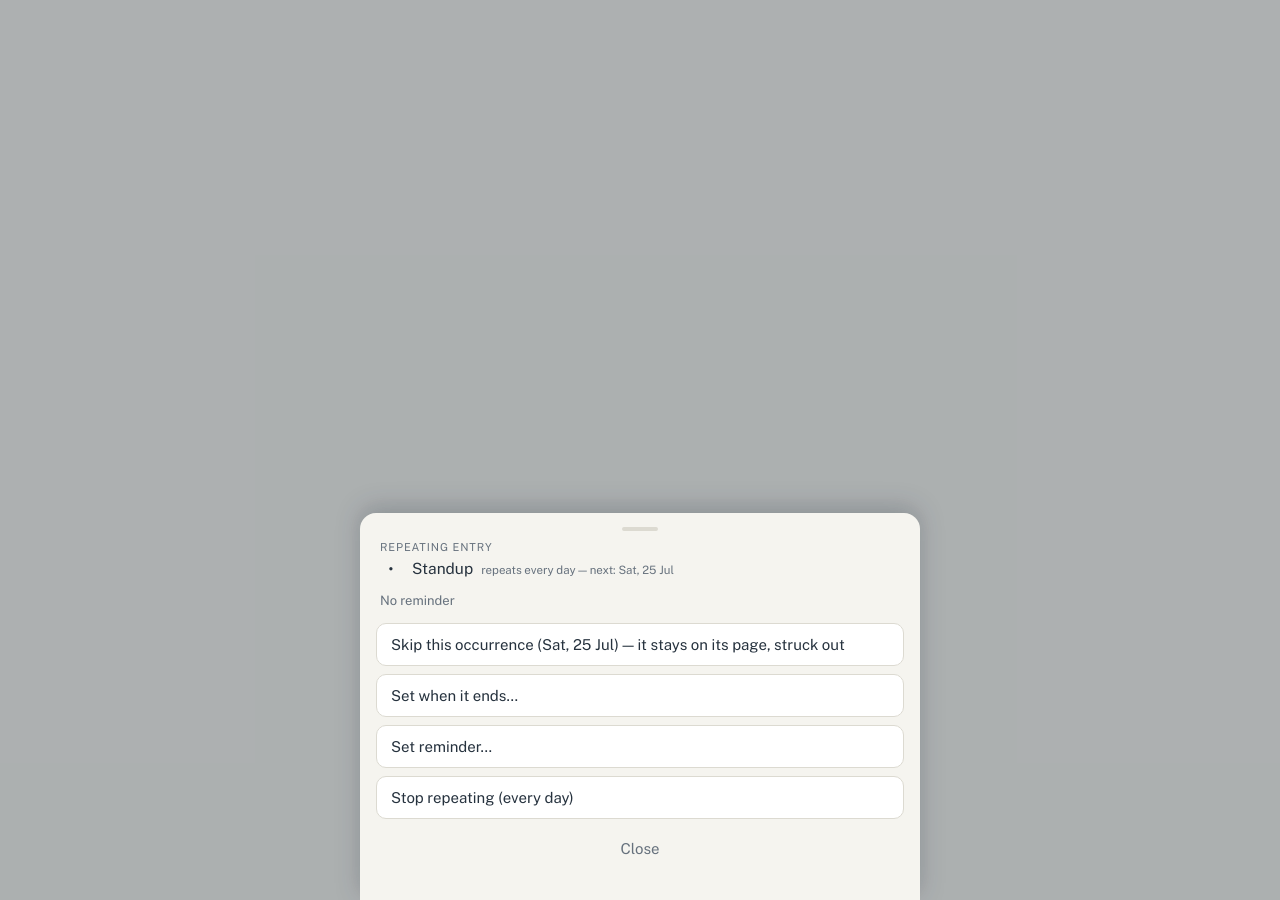
Test: the repeat's reminder › Back leaves the step without writing
This screenshot has width=1280, height=900.
Click the button with test id "rule-reminder-set".
click(442, 746)  # box [376,725,904,768]
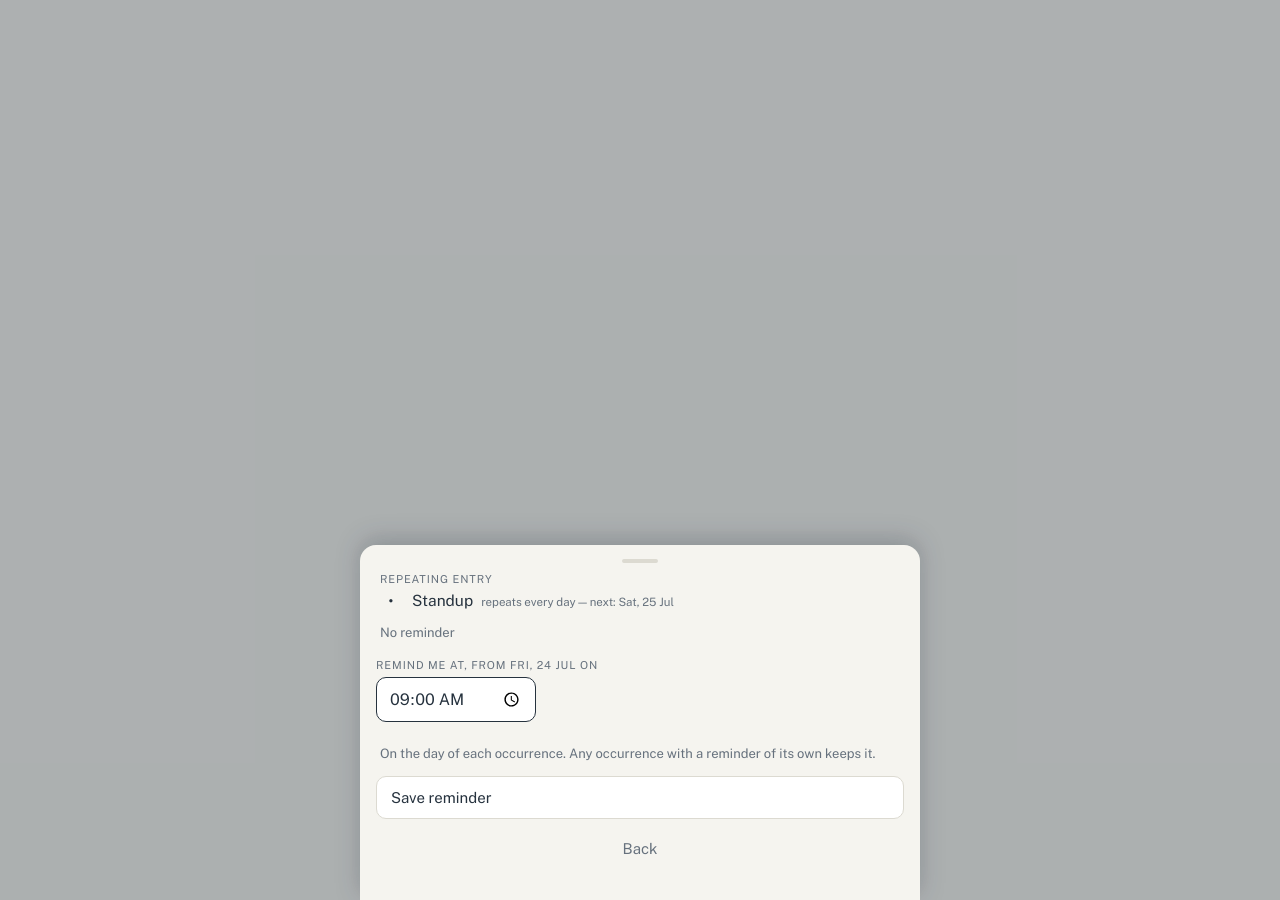
Click the button with test id "rule-reminder-back".
click(640, 848)  # box [376,827,904,870]
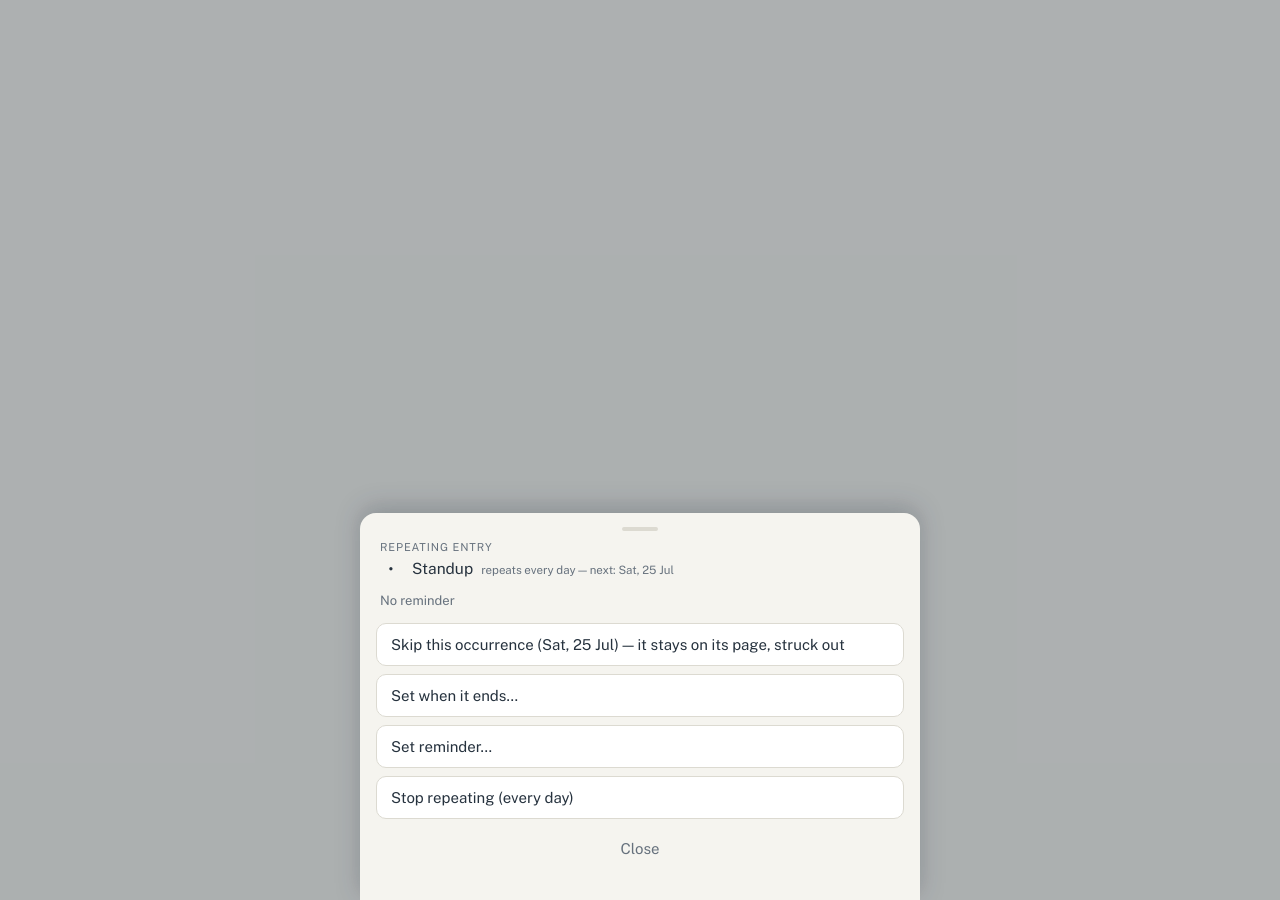
Expected: the time field with test id "rule-reminder-time" is gone
